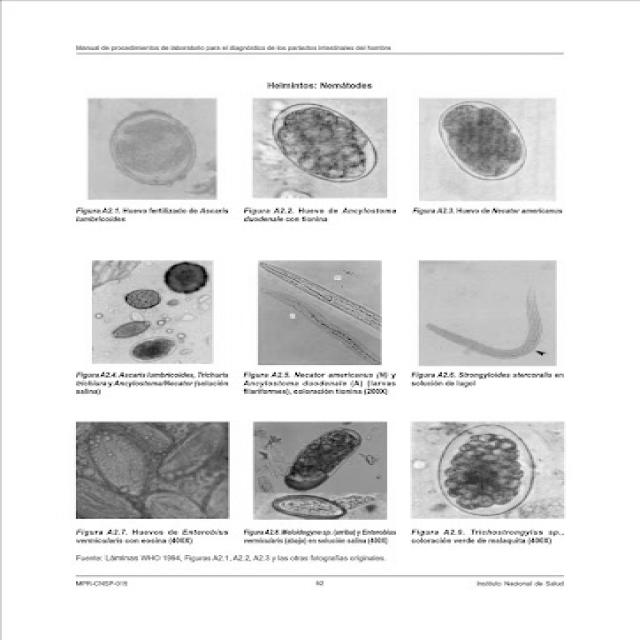Ancylostoma Spp: (424, 84, 536, 184), (270, 102, 375, 188)
